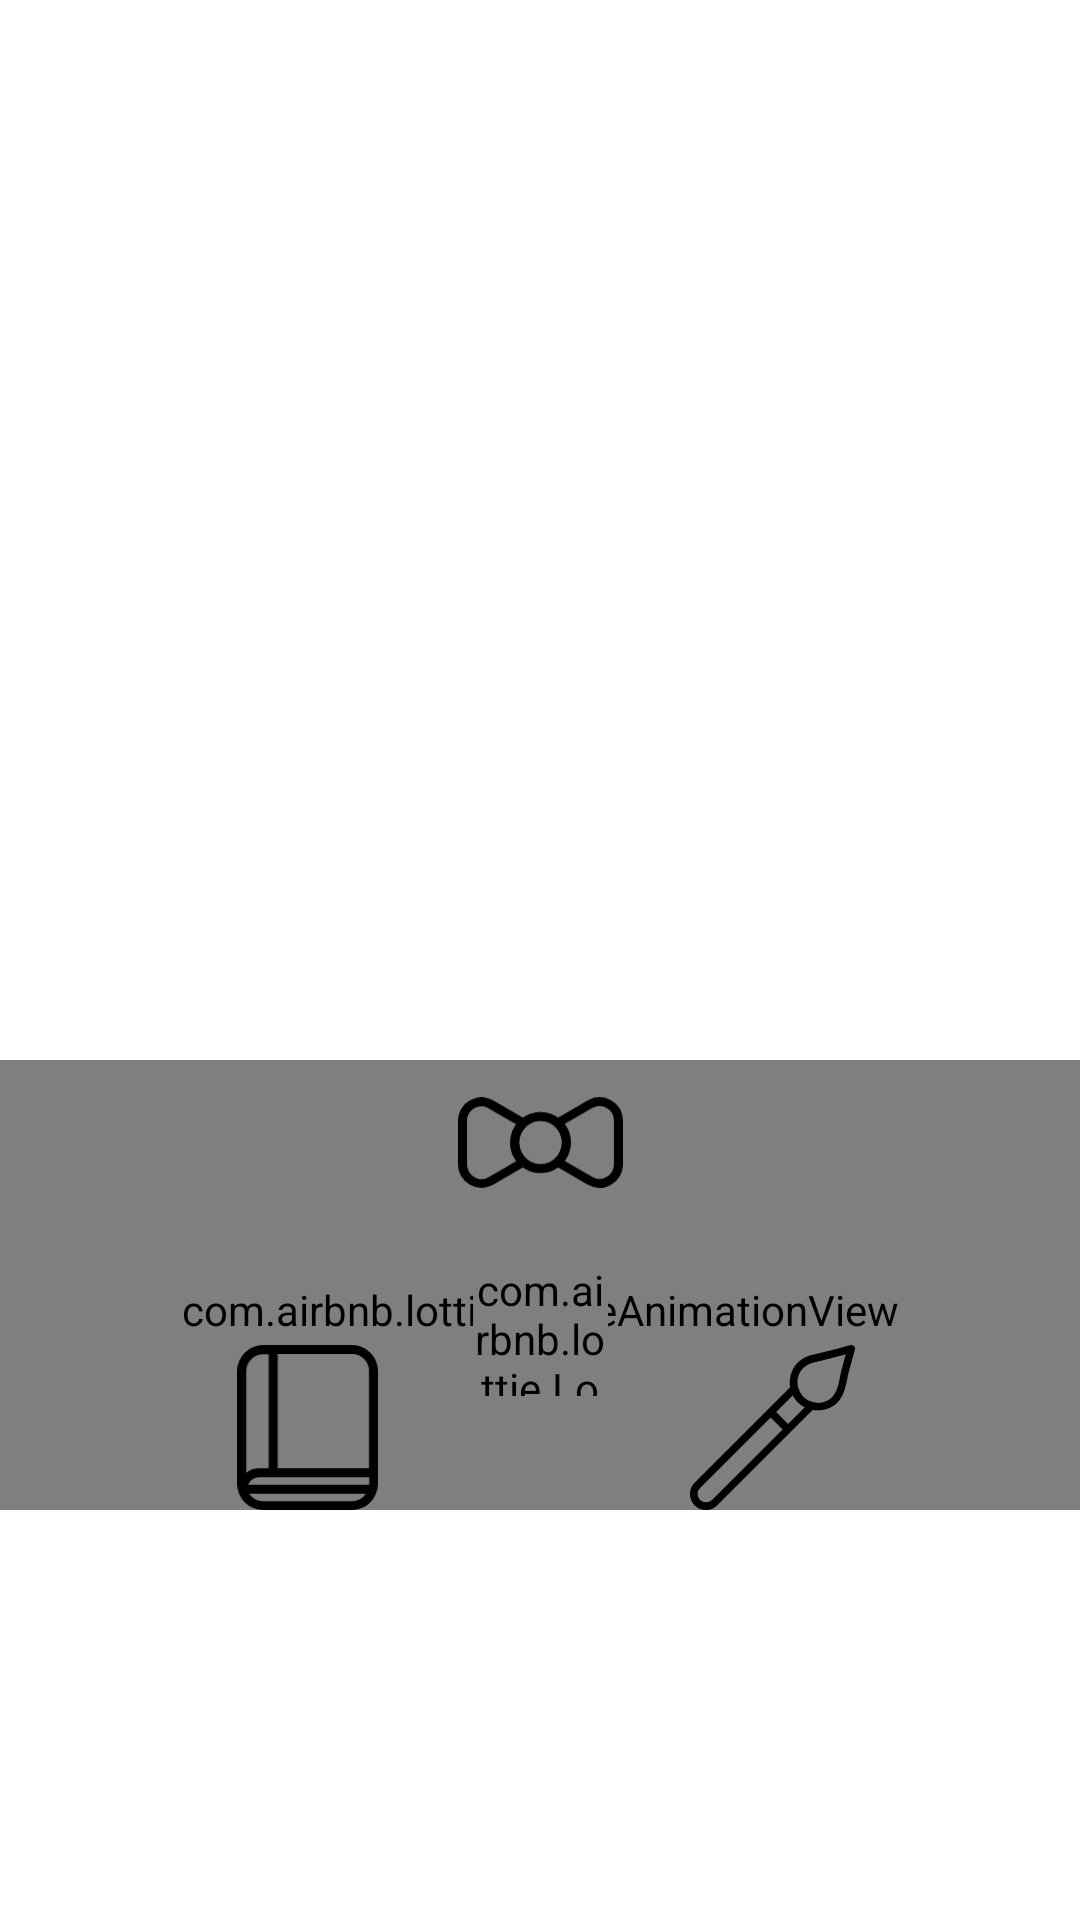

Named icons in this screenshot (1080×1920) and their bounding boxes, (x1, y1, x2, y2):
accessories head beauty: (458, 1097, 623, 1188)
accessories left books: (237, 1345, 378, 1510)
accessories right arts crafts: (690, 1345, 855, 1510)
